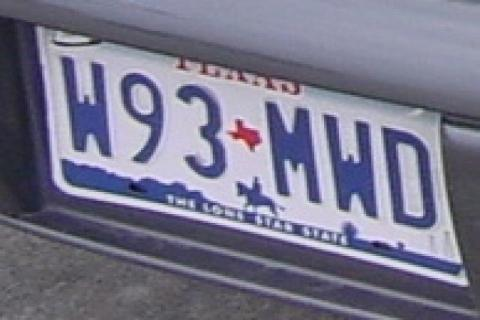LicensePlate: (17, 12, 477, 308)
